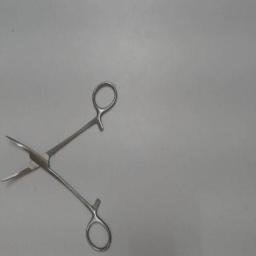Crile Artery Forceps: (2, 73, 122, 253)
